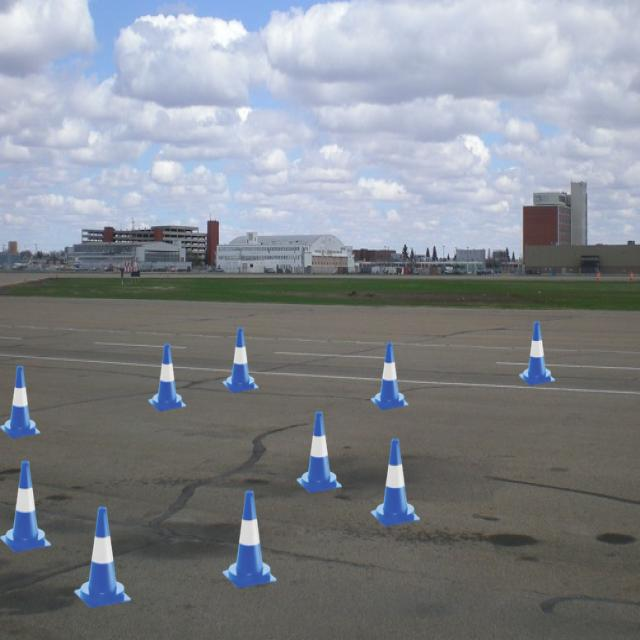blue_cone: (74, 506, 131, 608), (222, 491, 277, 588), (0, 461, 51, 552), (371, 439, 420, 526), (296, 411, 342, 493), (0, 365, 40, 438), (148, 344, 186, 412), (371, 342, 408, 410), (222, 327, 258, 393), (519, 322, 555, 386)
